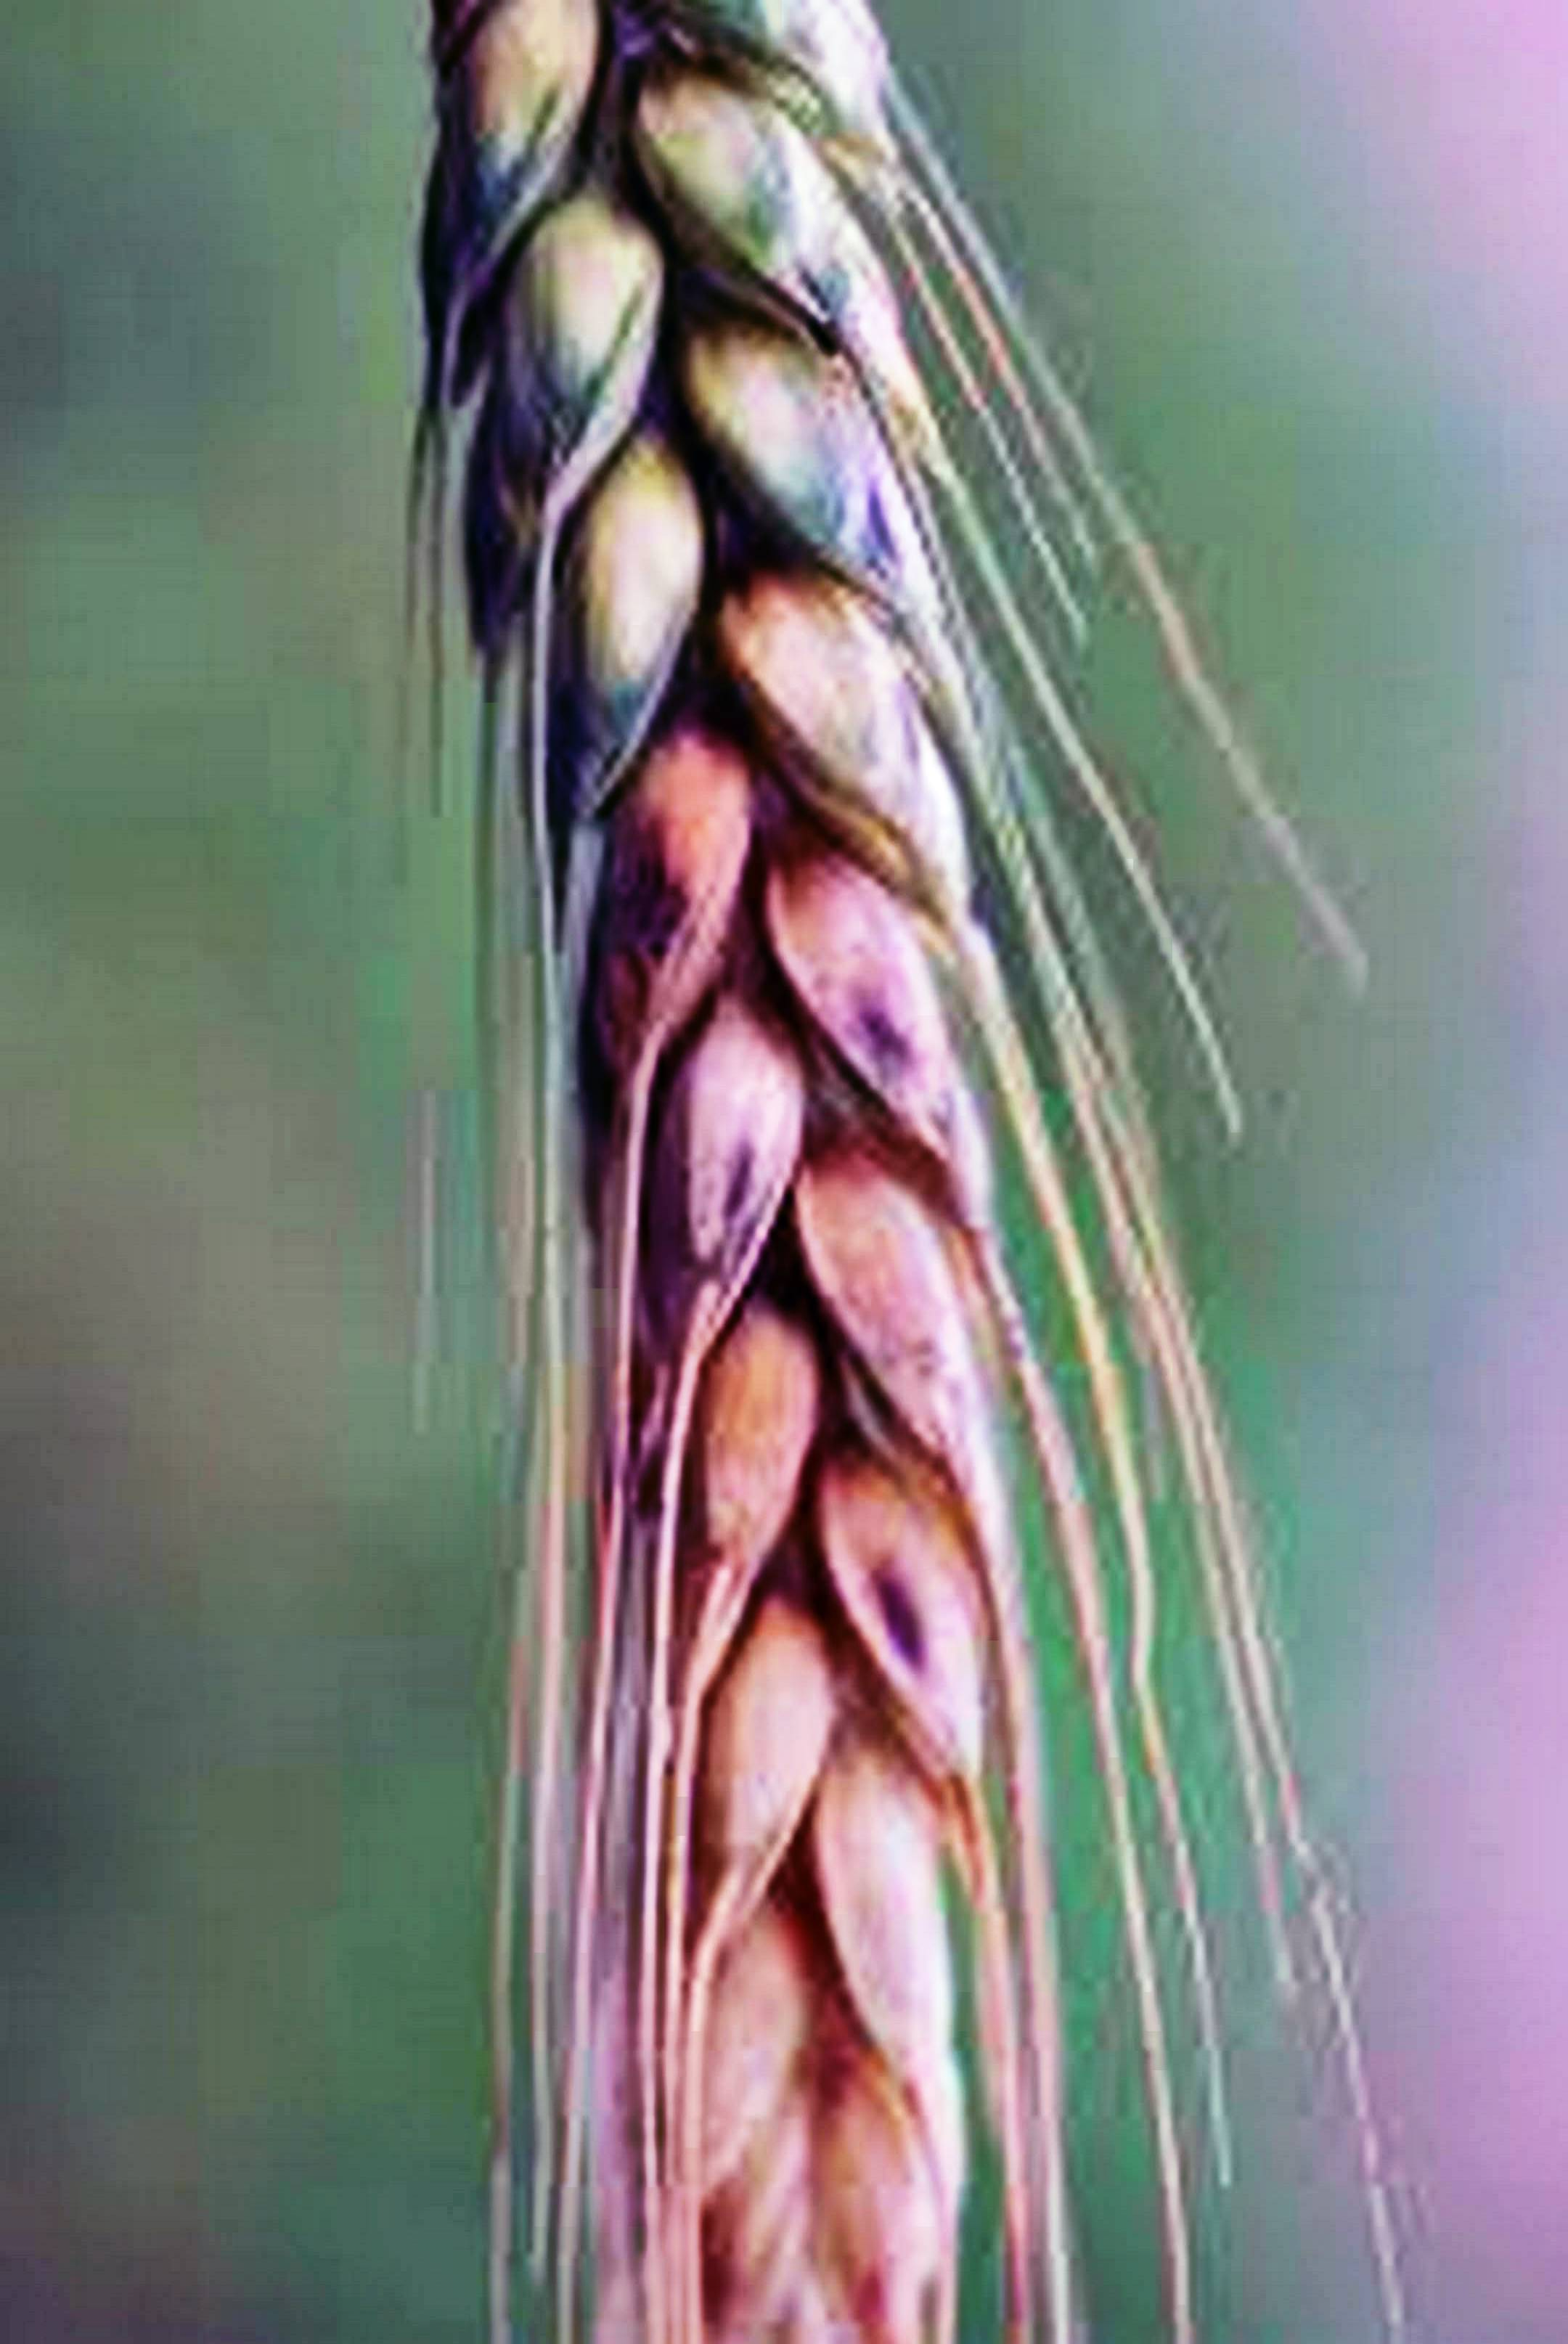Wheat scab: (369, 47, 1137, 2344)
